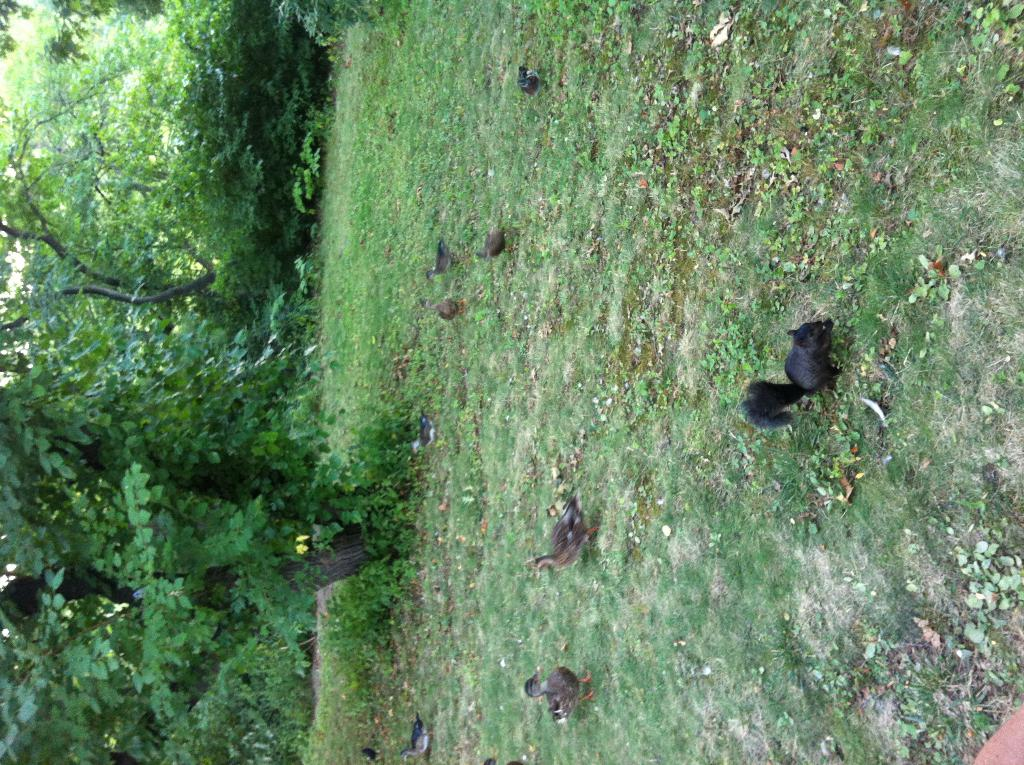Animal: (738, 318, 846, 431), (528, 492, 599, 583), (520, 666, 595, 726), (398, 710, 436, 763), (425, 237, 460, 284), (475, 222, 513, 259), (421, 295, 466, 323), (411, 405, 436, 448), (514, 63, 543, 96)
